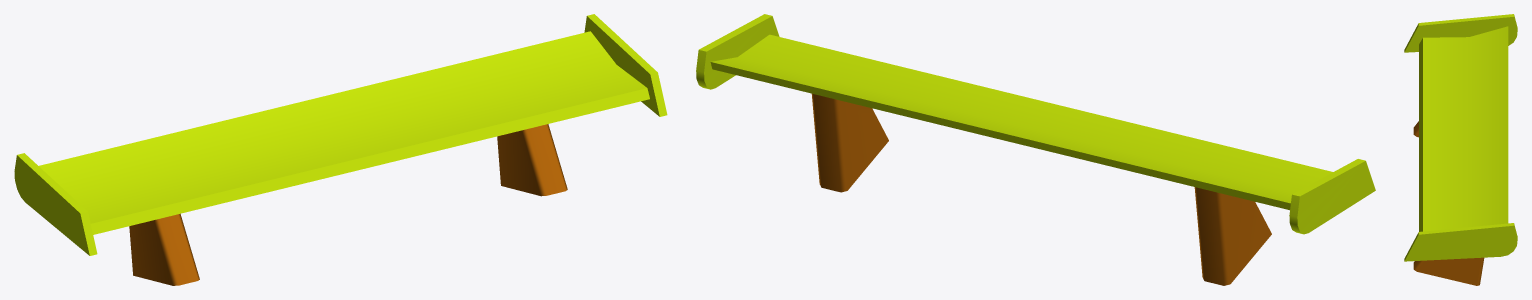
Rendered from Spoiler05_ColorCoded.fbx.
3 renders of one model, left to right at view 1: azimuth 30°, elevation 25°; view 2: azimuth 150°, elevation 25°; view 3: azimuth 270°, elevation 25°, orthographic. The views are drawn at different scales.
Parts seen in each view (by area): view 1: Spoiler05; view 2: Spoiler05; view 3: Spoiler05.
Boxes of the visible parts, x1,y1,x2,y2 form: Spoiler05: [14, 14, 667, 285]; Spoiler05: [696, 14, 1375, 285]; Spoiler05: [1404, 14, 1517, 285].
Bounding box in the file's own units: 43.3 × 9.79 × 9.02.
